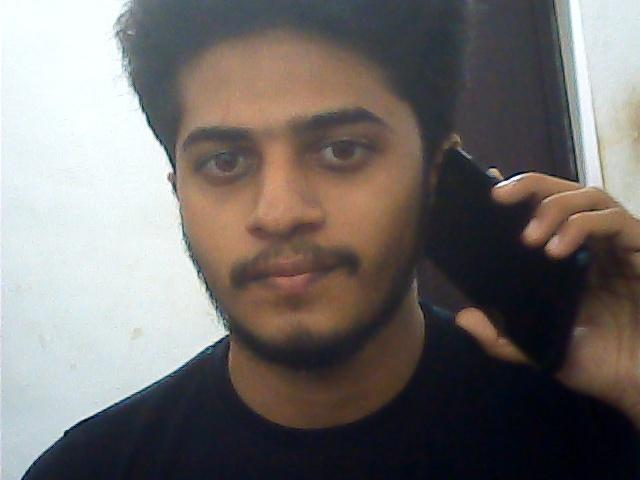PhoneUse: (428, 146, 602, 374)
SafeDriving: (300, 121, 387, 176), (185, 133, 272, 188)
